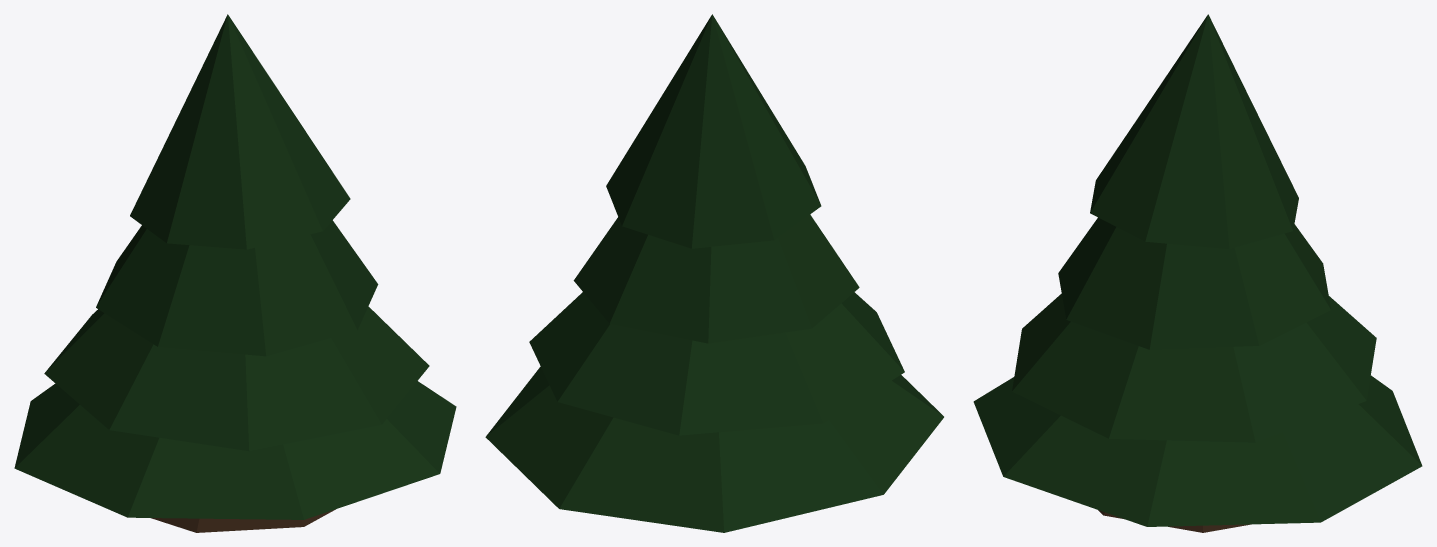
Rendered from pine3.fbx.
3 renders of one model, left to right at view 1: azimuth 30°, elevation 25°; view 2: azimuth 150°, elevation 25°; view 3: azimuth 270°, elevation 25°, orthographic.
Visible parts, largest first — view 1: Cone.003; view 2: Cone.003; view 3: Cone.003.
Boxes of the visible parts, x1=… form: Cone.003: x1=14, y1=14, x2=456, y2=532; Cone.003: x1=485, y1=14, x2=943, y2=532; Cone.003: x1=973, y1=14, x2=1422, y2=532.
Bounding box in the file's own units: 239 × 268 × 238.
